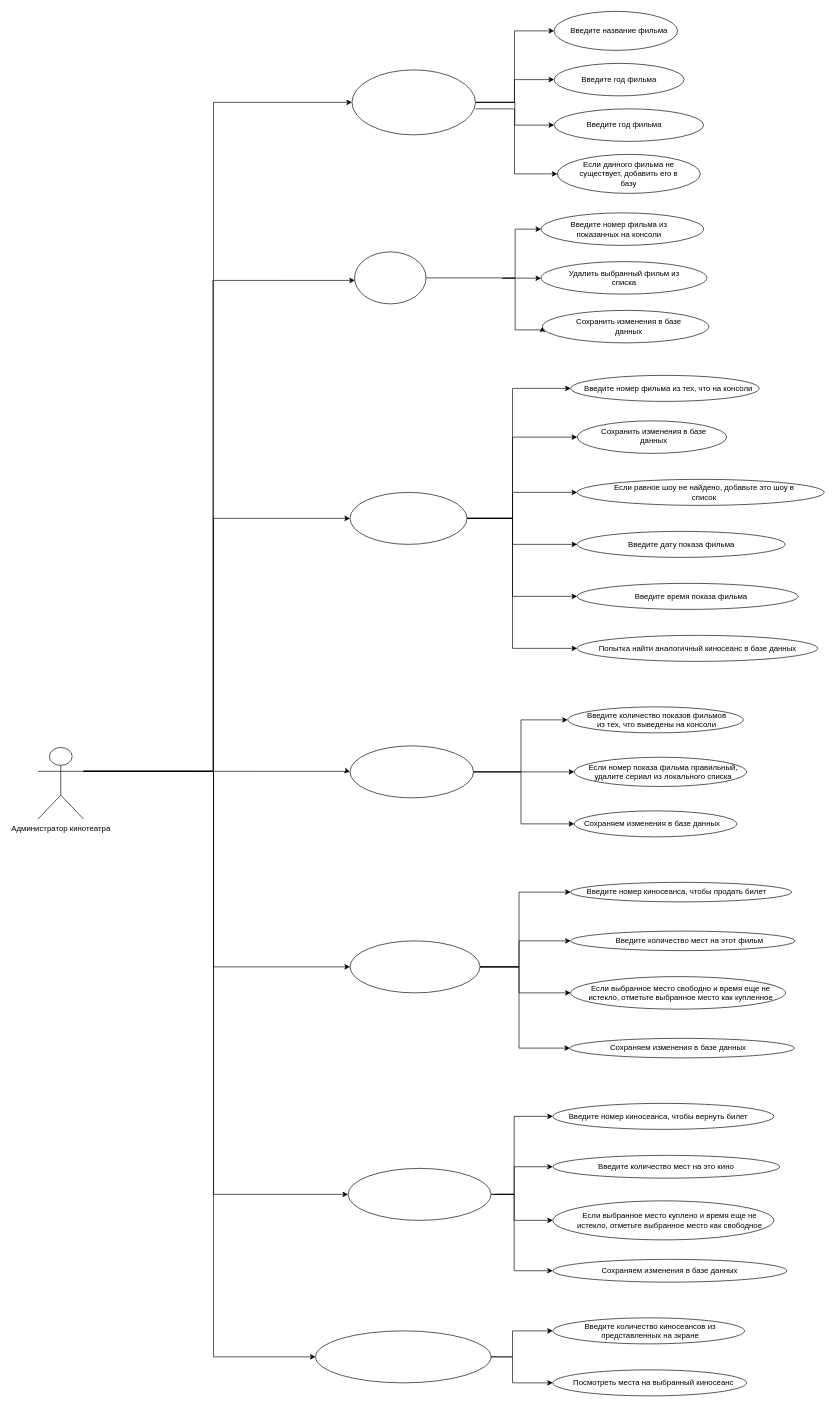
Image size: 835x1407. Some labels were removed from this diagram. Each missing label, with the box of its shape:
возврат билета на киносеанс: (347, 1168, 491, 1220)
добавить киносеанс: (349, 492, 467, 544)
добавить новый фильм: (351, 69, 475, 135)
Посмотреть бесплатные и купленные места на киносеанс: (315, 1330, 491, 1383)
продать билет на киносеанс: (349, 940, 480, 993)
удалить киносеанс: (349, 745, 474, 798)
удалить фильм: (354, 251, 426, 304)
